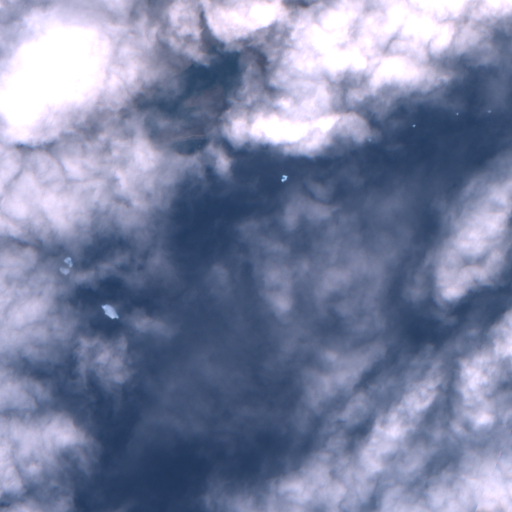Iceberg: (101, 304, 118, 319), (64, 257, 72, 267), (60, 267, 69, 274), (281, 175, 287, 182), (412, 124, 415, 127), (455, 113, 458, 115), (488, 110, 490, 112)
